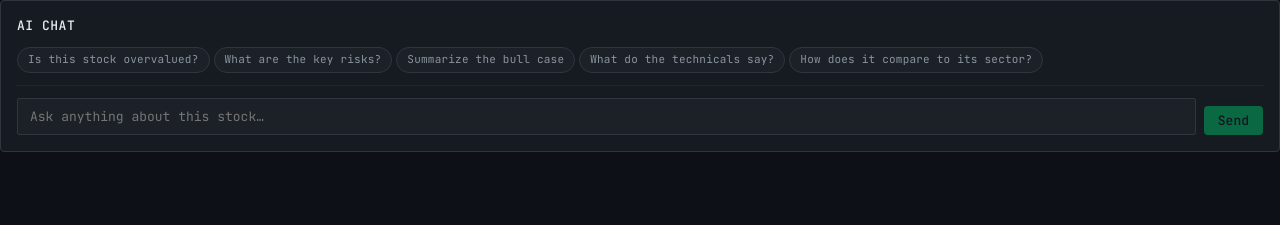
Scenario: AIChatPanel › chips disappear and user bubble appears after chip click
Click the button "Summarize the bull case" at [486, 60], box [396,47,575,73]
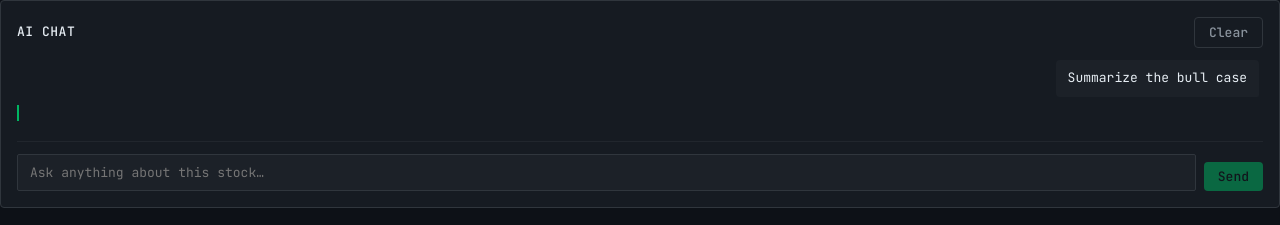
Check: the text "Summarize the bull case" is shown, box [1068,69,1247,86]
Check: the button "Is this stock overvalued?" is gone
